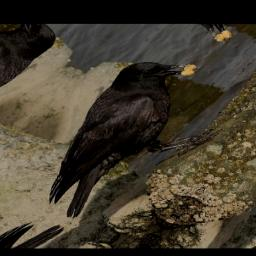Crow: (0, 48, 256, 234)
